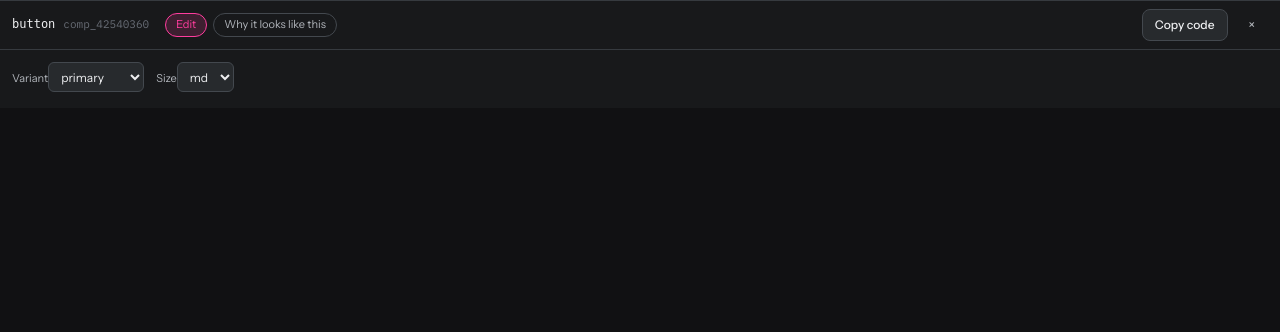
Scenario: EditPanel › shows the token behind every styled property (D-189)
Click the tab "Why it looks like this": (275, 25) [213,13,337,37]
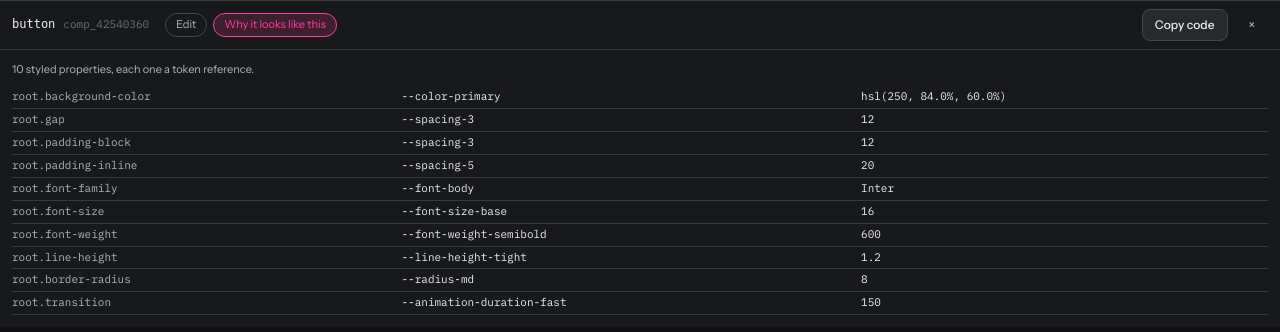
Check: the text "--color-primary" is shown, box [402,86,861,108]
Check: the column heading "root.background-color" is shown, box [12,86,402,108]
Check: the text "hsl(250, 84.0%, 60.0%)" is shown, box [861,86,1268,108]
